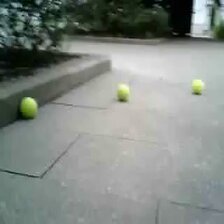tennis: (20, 97, 38, 117), (116, 85, 130, 102), (190, 79, 204, 93)
